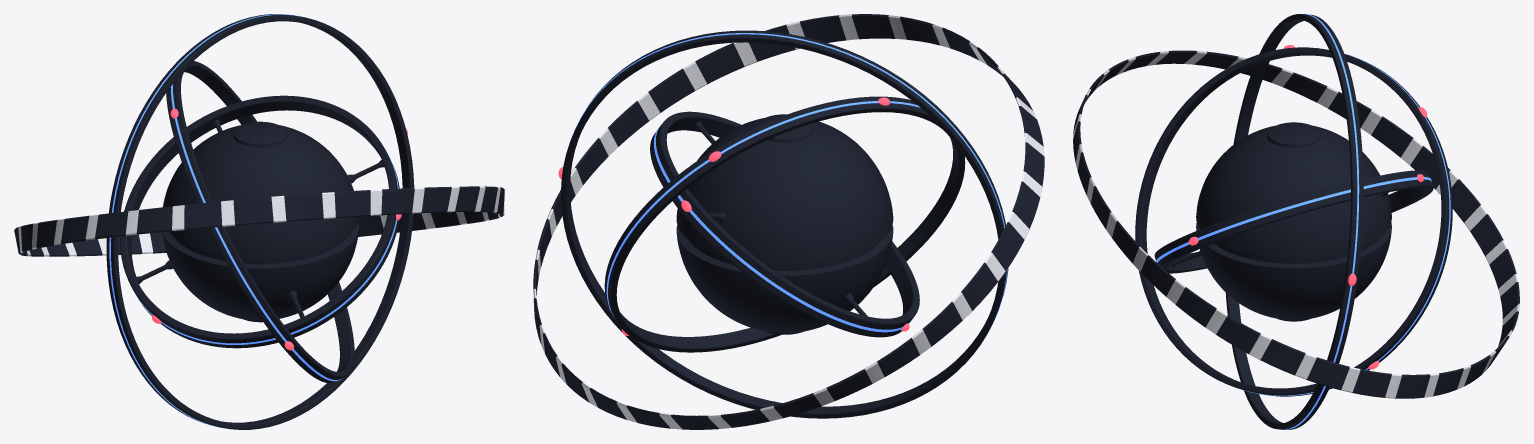
Rendered from hero-core-lite.glb.
3 views of the same model, side by side, from view 1: azimuth 30°, elevation 25°; view 2: azimuth 150°, elevation 25°; view 3: azimuth 270°, elevation 25° (orthographic). The views are drawn at different scales.
Parts seen in each view (by area): view 1: Core, Ribbon, Ring_Outer, Ring_Inner, Ring_Mid, Trace_Outer, Trace_Mid, Trace_Inner; view 2: Core, Ribbon, Ring_Outer, Ring_Mid, Ring_Inner, Trace_Outer, Trace_Mid, Trace_Inner; view 3: Core, Ribbon, Ring_Mid, Ring_Outer, Ring_Inner, Trace_Outer, Trace_Inner, Trace_Mid.
Boxes of the visible parts, bbox=[...] form: Core: bbox=[162, 121, 358, 322]; Ribbon: bbox=[14, 186, 504, 256]; Ring_Outer: bbox=[106, 14, 414, 429]; Ring_Inner: bbox=[120, 95, 401, 348]; Ring_Mid: bbox=[166, 61, 354, 383]; Trace_Outer: bbox=[109, 14, 305, 428]; Trace_Mid: bbox=[170, 84, 342, 381]; Trace_Inner: bbox=[130, 151, 398, 344]; Core: bbox=[676, 114, 893, 334]; Ribbon: bbox=[533, 14, 1044, 429]; Ring_Outer: bbox=[558, 30, 1008, 418]; Ring_Mid: bbox=[604, 96, 965, 352]; Ring_Inner: bbox=[650, 111, 919, 337]; Trace_Outer: bbox=[570, 33, 1007, 332]; Trace_Mid: bbox=[606, 101, 920, 316]; Trace_Inner: bbox=[653, 125, 912, 332]; Core: bbox=[1196, 122, 1391, 321]; Ribbon: bbox=[1073, 50, 1519, 398]; Ring_Mid: bbox=[1135, 45, 1452, 396]; Ring_Outer: bbox=[1225, 14, 1363, 429]; Ring_Inner: bbox=[1154, 170, 1433, 273]; Trace_Outer: bbox=[1281, 14, 1359, 429]; Trace_Inner: bbox=[1156, 177, 1431, 262]; Trace_Mid: bbox=[1235, 53, 1450, 395].
Size of the model in its own units: 4.45 by 3.77 by 4.1.
